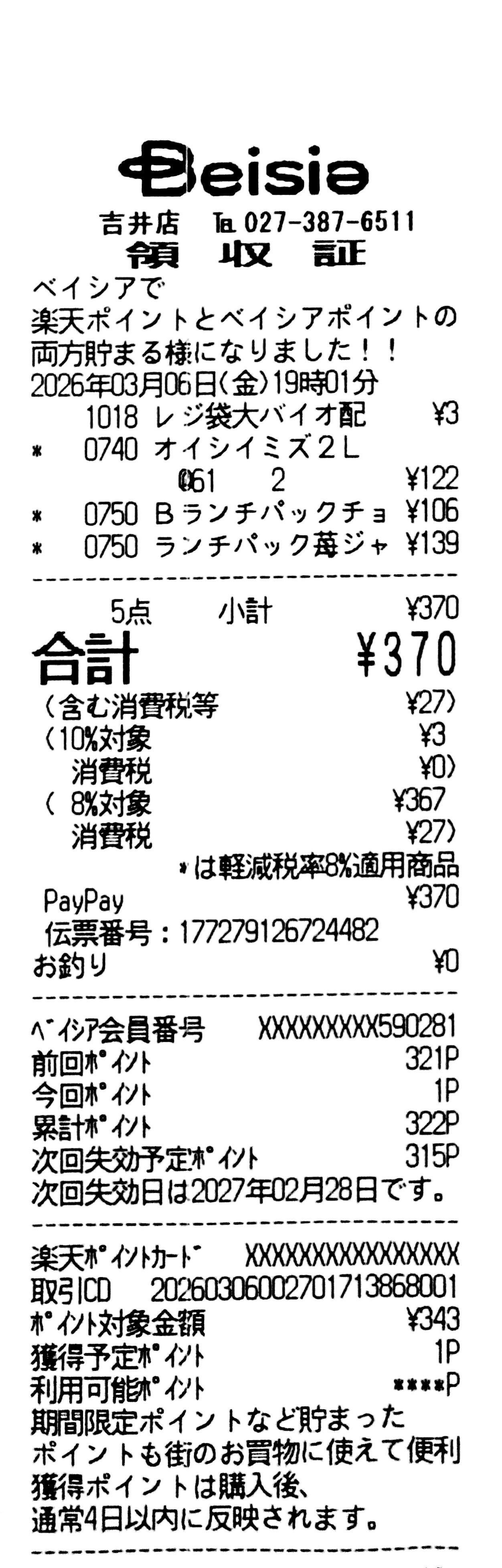Date: (30, 371, 216, 397)
Pay: (31, 629, 455, 685)
Shopname: (117, 139, 370, 198)
Telnum: (245, 209, 414, 234)
